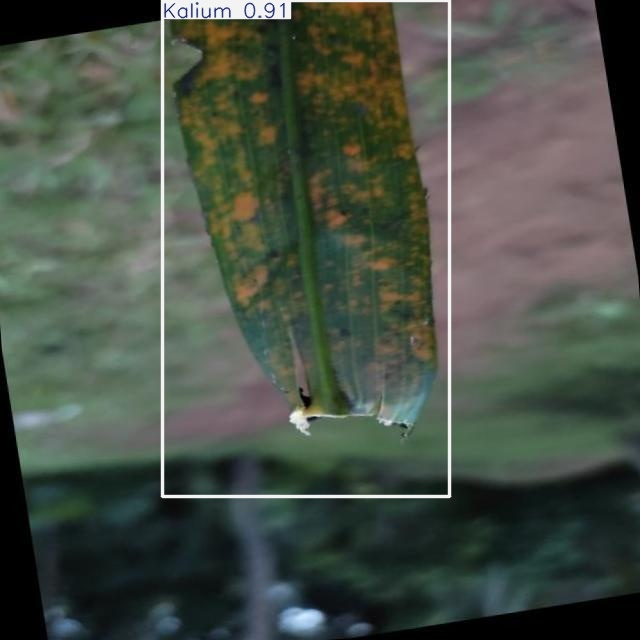Kalium: (163, 0, 450, 496)
